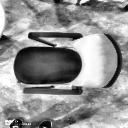chair_fail: (14, 32, 123, 95)
